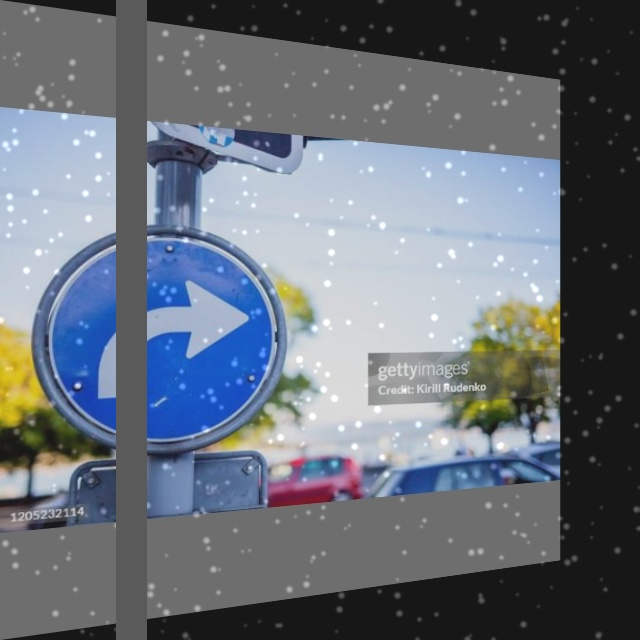Compulsory_Turn_Right_Ahead: (43, 222, 279, 455)
